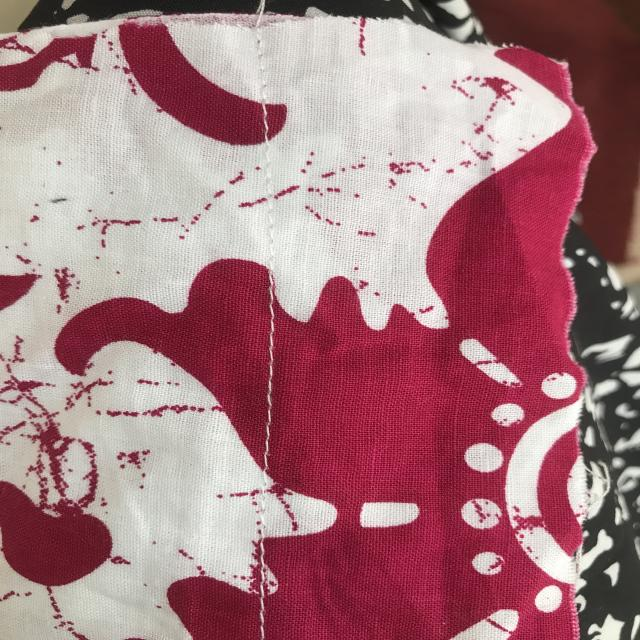good: (252, 310, 294, 458)
